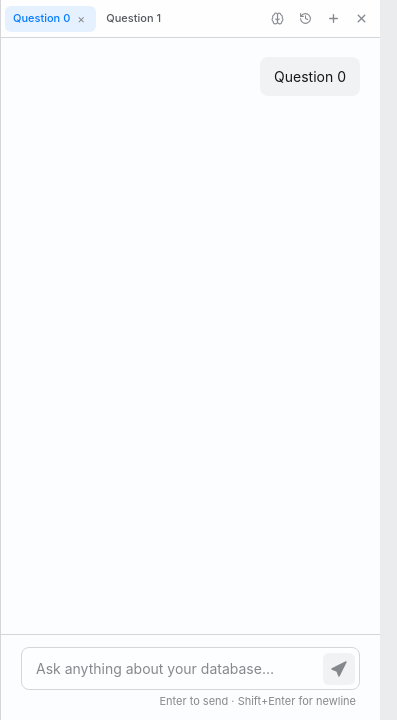
Scenario: ChatPanel — conversation tab context menu › offers the same close actions as the DB tab strip
Right-click the button titled "Question 0".
right_click(51, 18)  # box [5,6,96,32]
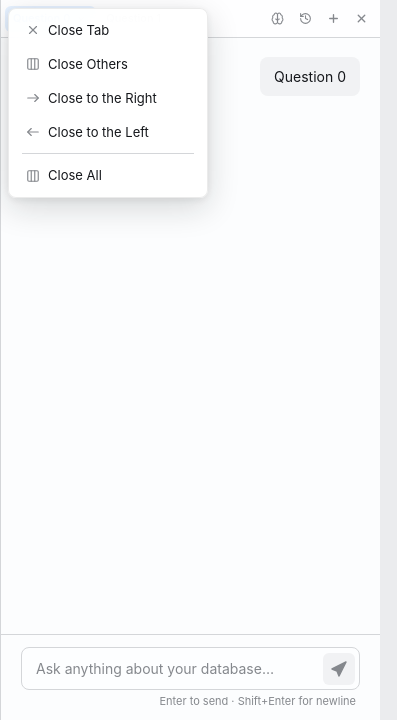
Result: the menu item "Close Tab" is shown at [14,14,202,47]
Result: the menu item "Close Others" is shown at [14,48,202,81]
Result: the menu item "Close to the Right" is shown at [14,82,202,114]
